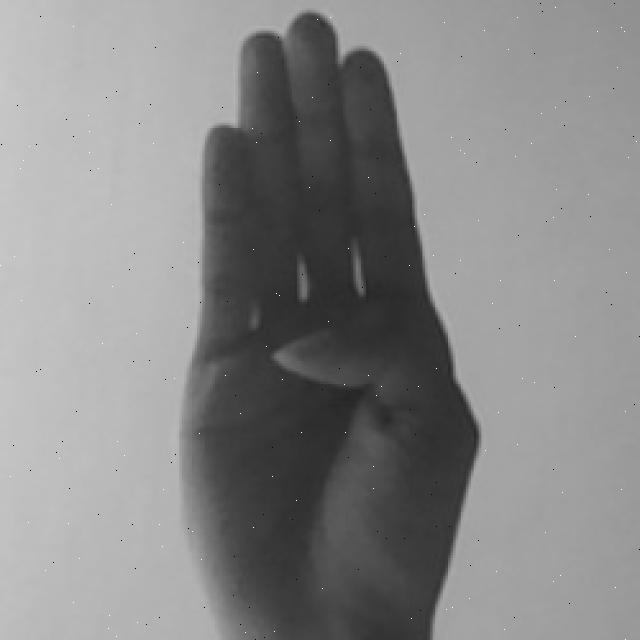B: (172, 4, 493, 640)
